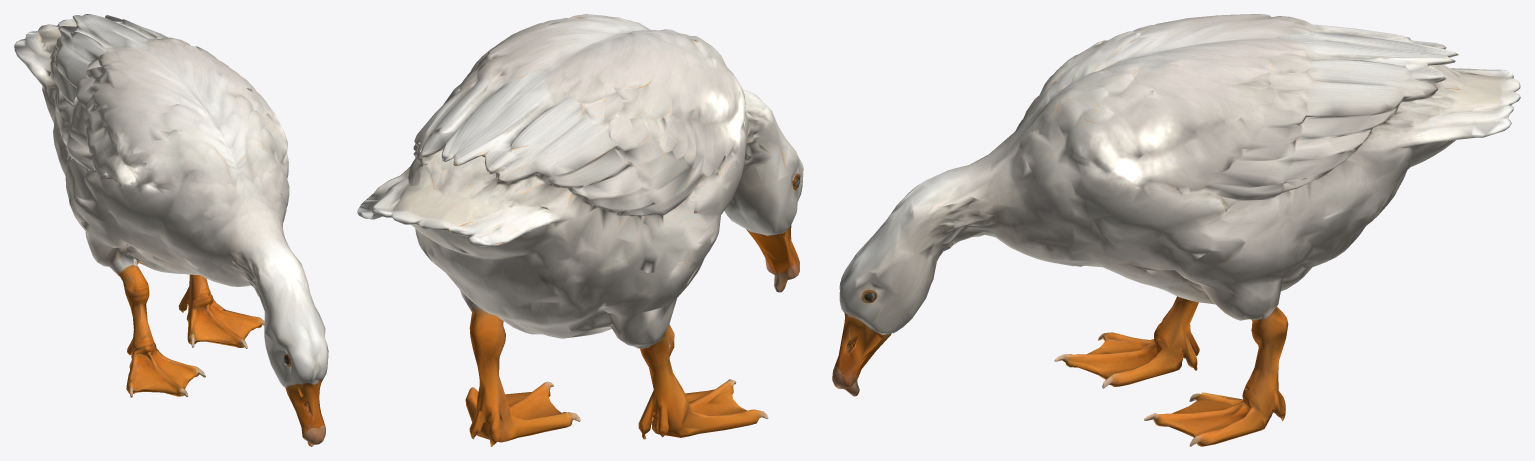
Rendered from kit_goose_foraging.glb.
The picture shows the model from 3 angles, left to right: view 1: azimuth 30°, elevation 25°; view 2: azimuth 150°, elevation 25°; view 3: azimuth 270°, elevation 25°; orthographic projection. The views are drawn at different scales.
Parts seen in each view (by area): view 1: Mesh1.0; view 2: Mesh1.0; view 3: Mesh1.0.
Boxes of the visible parts, left/top/right/bottom form: Mesh1.0: left=14, top=14, right=328, bottom=446; Mesh1.0: left=357, top=14, right=803, bottom=446; Mesh1.0: left=832, top=14, right=1520, bottom=446.
Bounding box in the file's own units: 0.4033 × 0.6 × 1.04.
Materials: 1 (1 with a texture image).
